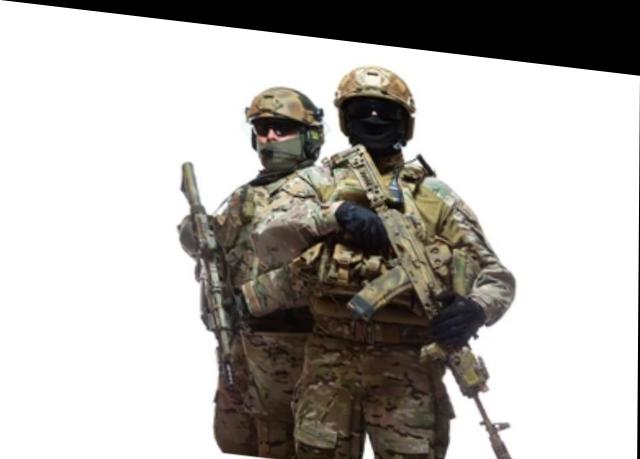other: (317, 54, 493, 458), (205, 69, 322, 454)
